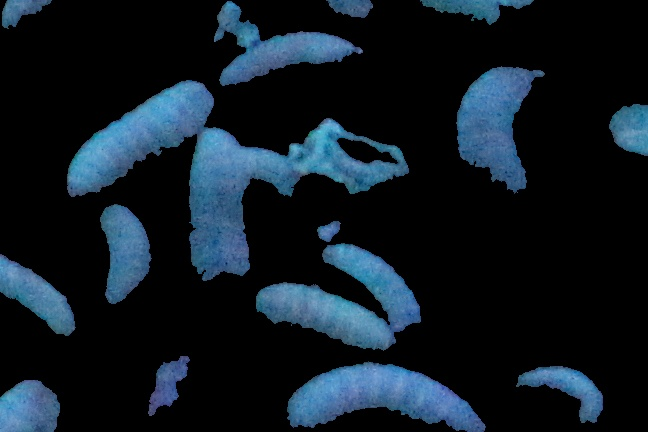larvae: (66, 81, 214, 199), (285, 360, 484, 432), (452, 65, 542, 207), (188, 127, 256, 275), (254, 281, 397, 350), (323, 239, 425, 331), (514, 351, 606, 424), (1, 255, 76, 339), (224, 42, 356, 87), (102, 204, 153, 303), (1, 378, 64, 432)
